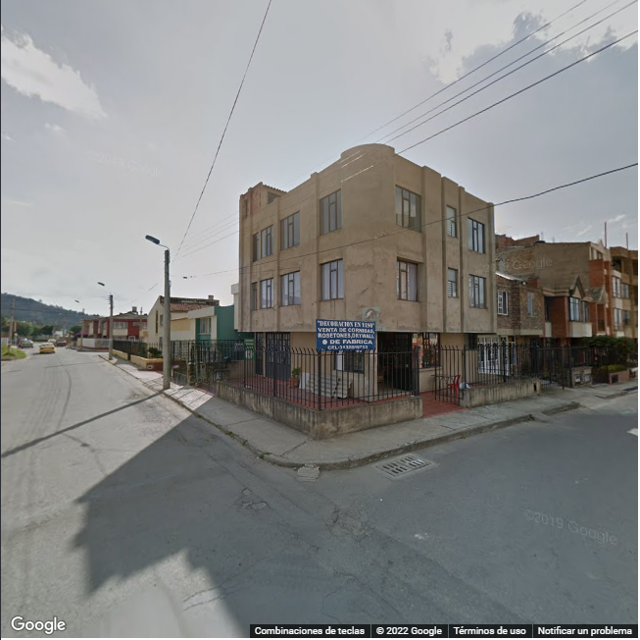D00: (332, 567, 417, 620)
D10: (180, 559, 265, 602), (190, 581, 253, 612)
D40: (327, 499, 364, 545), (233, 482, 269, 507)
